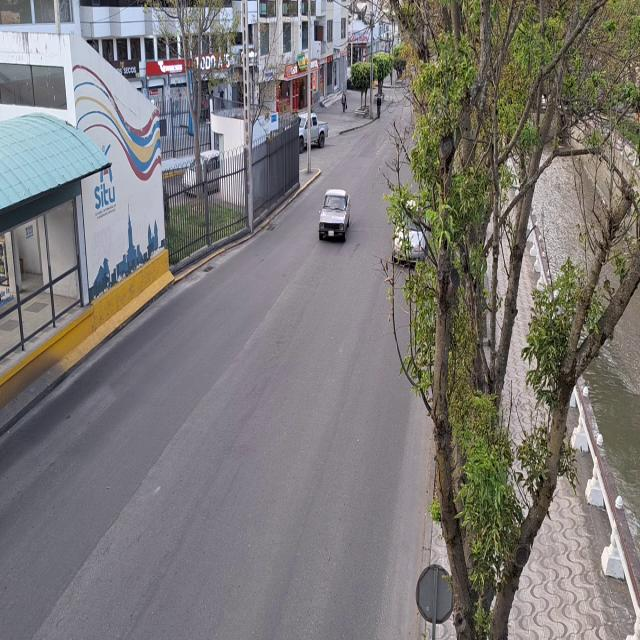CMT: (321, 190, 352, 242)
